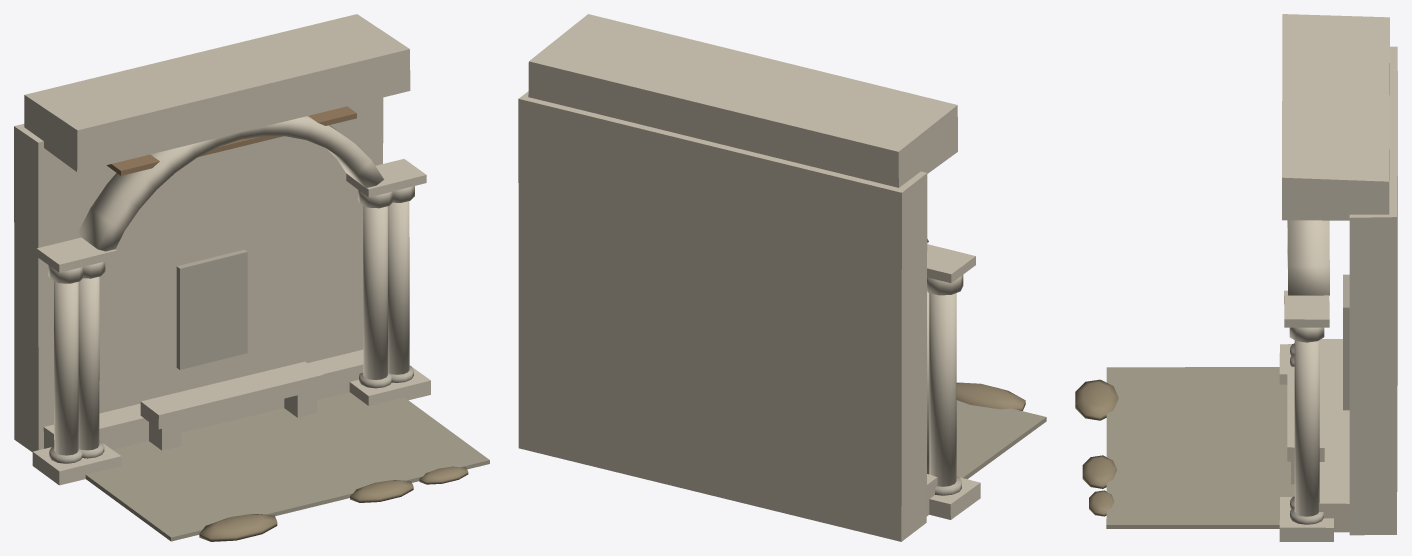
File: cloister_arcade_b.glb
The picture shows the model from 3 angles, left to right: view 1: azimuth 30°, elevation 25°; view 2: azimuth 150°, elevation 25°; view 3: azimuth 270°, elevation 25°; orthographic projection. The views are drawn at different scales.
Parts seen in each view (by area): view 1: ArcadeB_Rear, ArcadeB_Arch, ArcadeB_Ground, ArcadeB_Columns, ArcadeB_Bench; view 2: ArcadeB_Rear, ArcadeB_Arch, ArcadeB_Columns, ArcadeB_Ground; view 3: ArcadeB_Ground, ArcadeB_Arch, ArcadeB_Rear, ArcadeB_Columns, ArcadeB_Bench.
Part boxes in pixels (bbox=[...]): ArcadeB_Rear: bbox=[14, 97, 383, 452]; ArcadeB_Arch: bbox=[24, 14, 410, 251]; ArcadeB_Ground: bbox=[85, 392, 489, 541]; ArcadeB_Columns: bbox=[32, 159, 430, 485]; ArcadeB_Bench: bbox=[140, 361, 323, 450]; ArcadeB_Rear: bbox=[518, 91, 937, 541]; ArcadeB_Arch: bbox=[528, 14, 957, 242]; ArcadeB_Columns: bbox=[927, 244, 980, 519]; ArcadeB_Ground: bbox=[956, 382, 1046, 479]; ArcadeB_Ground: bbox=[1075, 367, 1294, 528]; ArcadeB_Arch: bbox=[1282, 14, 1389, 295]; ArcadeB_Rear: bbox=[1319, 46, 1397, 535]; ArcadeB_Columns: bbox=[1279, 290, 1333, 541]; ArcadeB_Bench: bbox=[1287, 366, 1324, 484].
Size of the model in its own units: 3.84 by 3.46 by 2.85.
